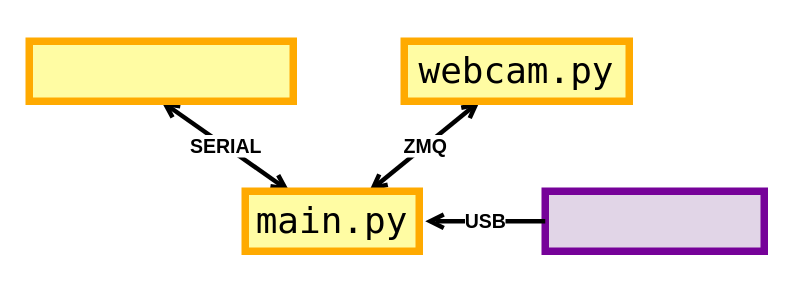
This 794x293 diagram has some shape labels left out. The centre of each missing label's shape, as x and y in pixels:
"arduino.ino" belongs at [160,70].
"Teklatua" belongs at [654,220].
